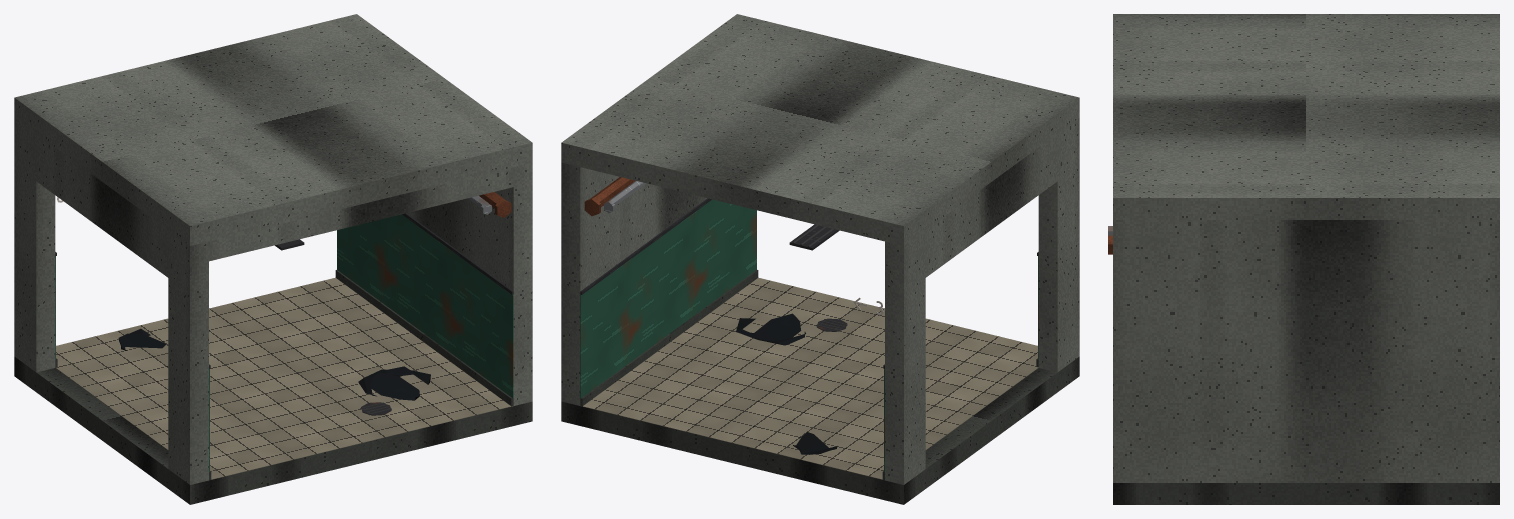
Rendered from corridor_t_junction.glb.
3 renders of one model, left to right at view 1: azimuth 30°, elevation 25°; view 2: azimuth 150°, elevation 25°; view 3: azimuth 270°, elevation 25°, orthographic. The views are drawn at different scales.
Parts seen in each view (by area): view 1: corridor_t_junction; view 2: corridor_t_junction; view 3: corridor_t_junction.
Boxes of the visible parts, <box> form: corridor_t_junction: <box>14,14,532,504</box>; corridor_t_junction: <box>561,14,1079,504</box>; corridor_t_junction: <box>1108,14,1499,504</box>.
Size of what is drawn, in the model's own units: 4.5 by 3.5 by 4.05.
Materials: 11 (9 with a texture image).
